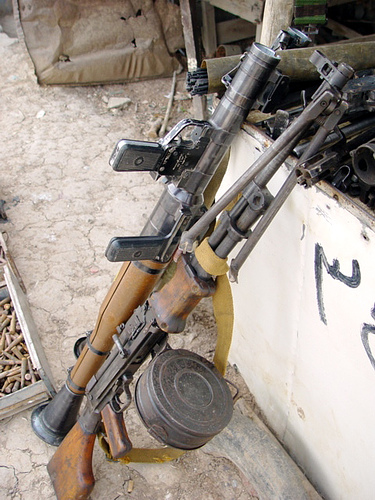rifle: (19, 35, 349, 498)
